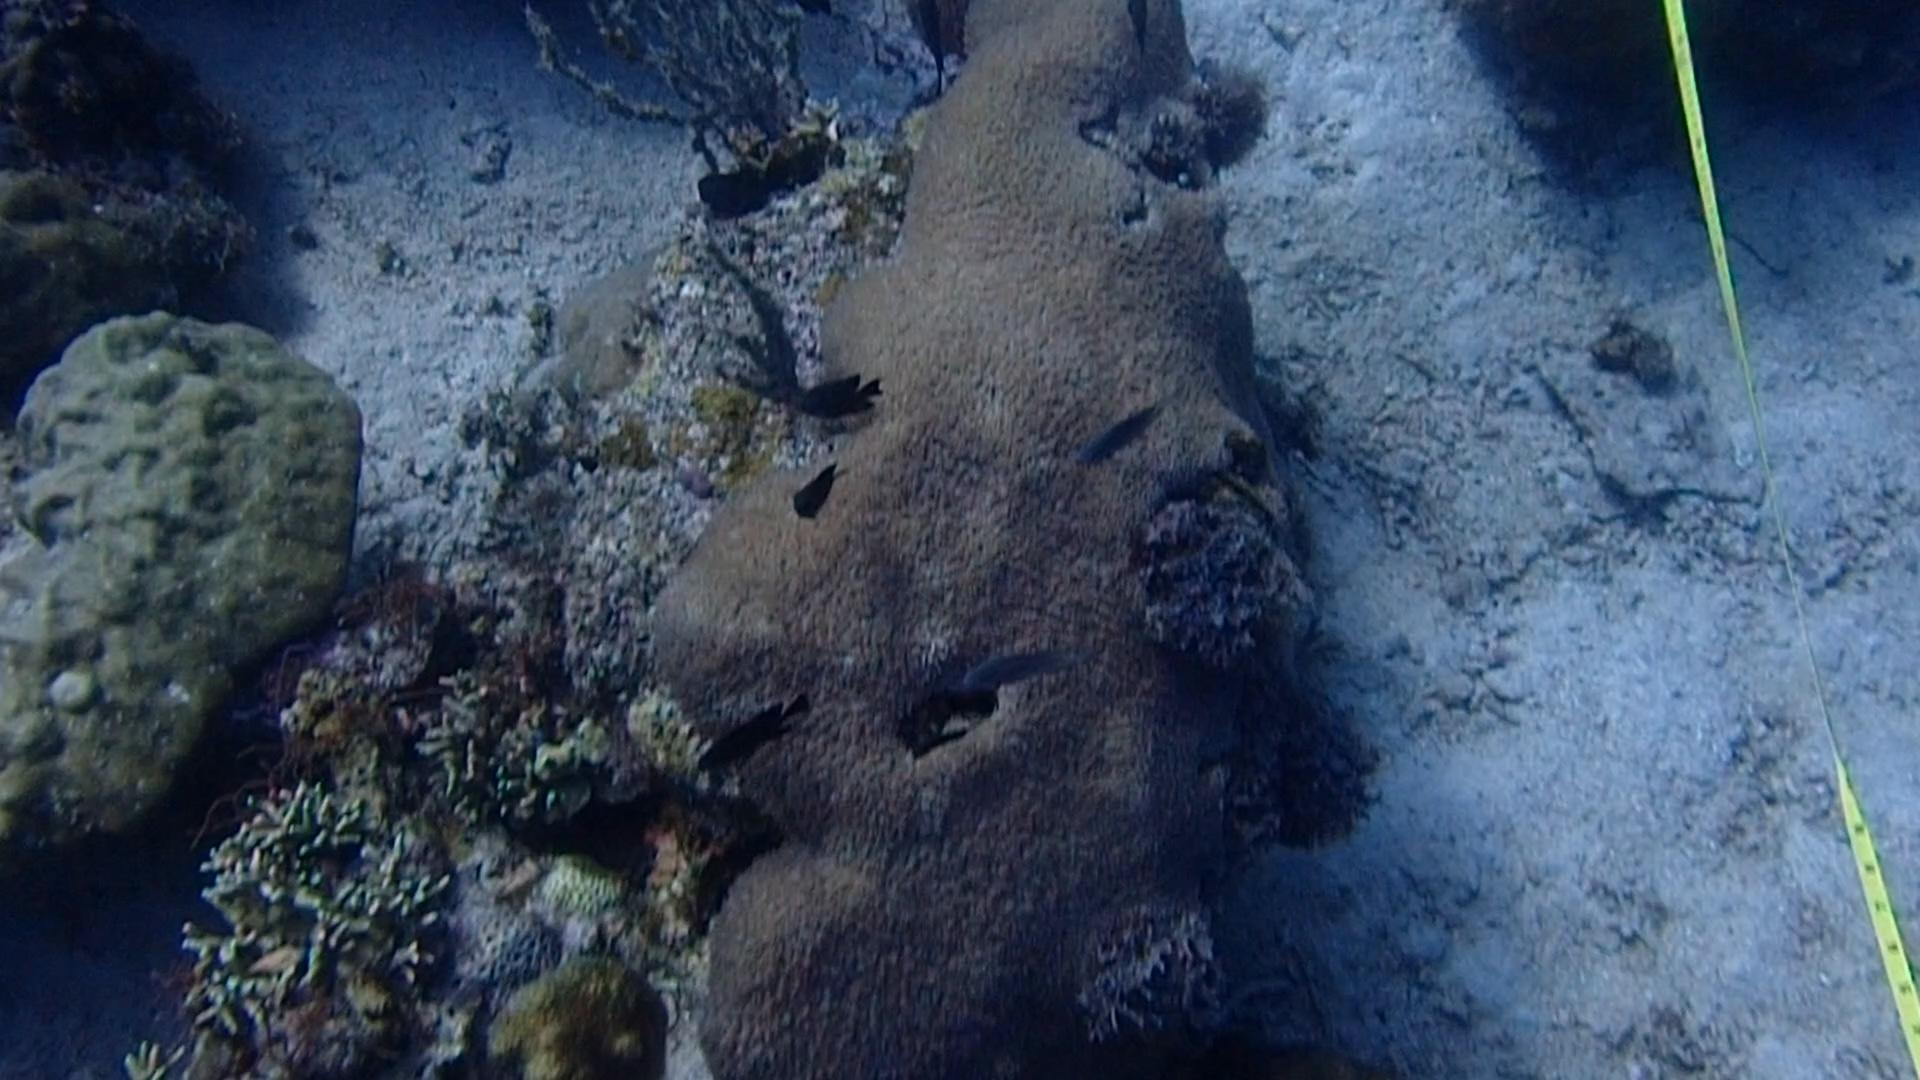Dark Fish: (678, 694, 815, 779), (781, 356, 887, 431), (785, 451, 858, 509)
Light Fish: (1065, 384, 1174, 471), (959, 634, 1087, 702)
